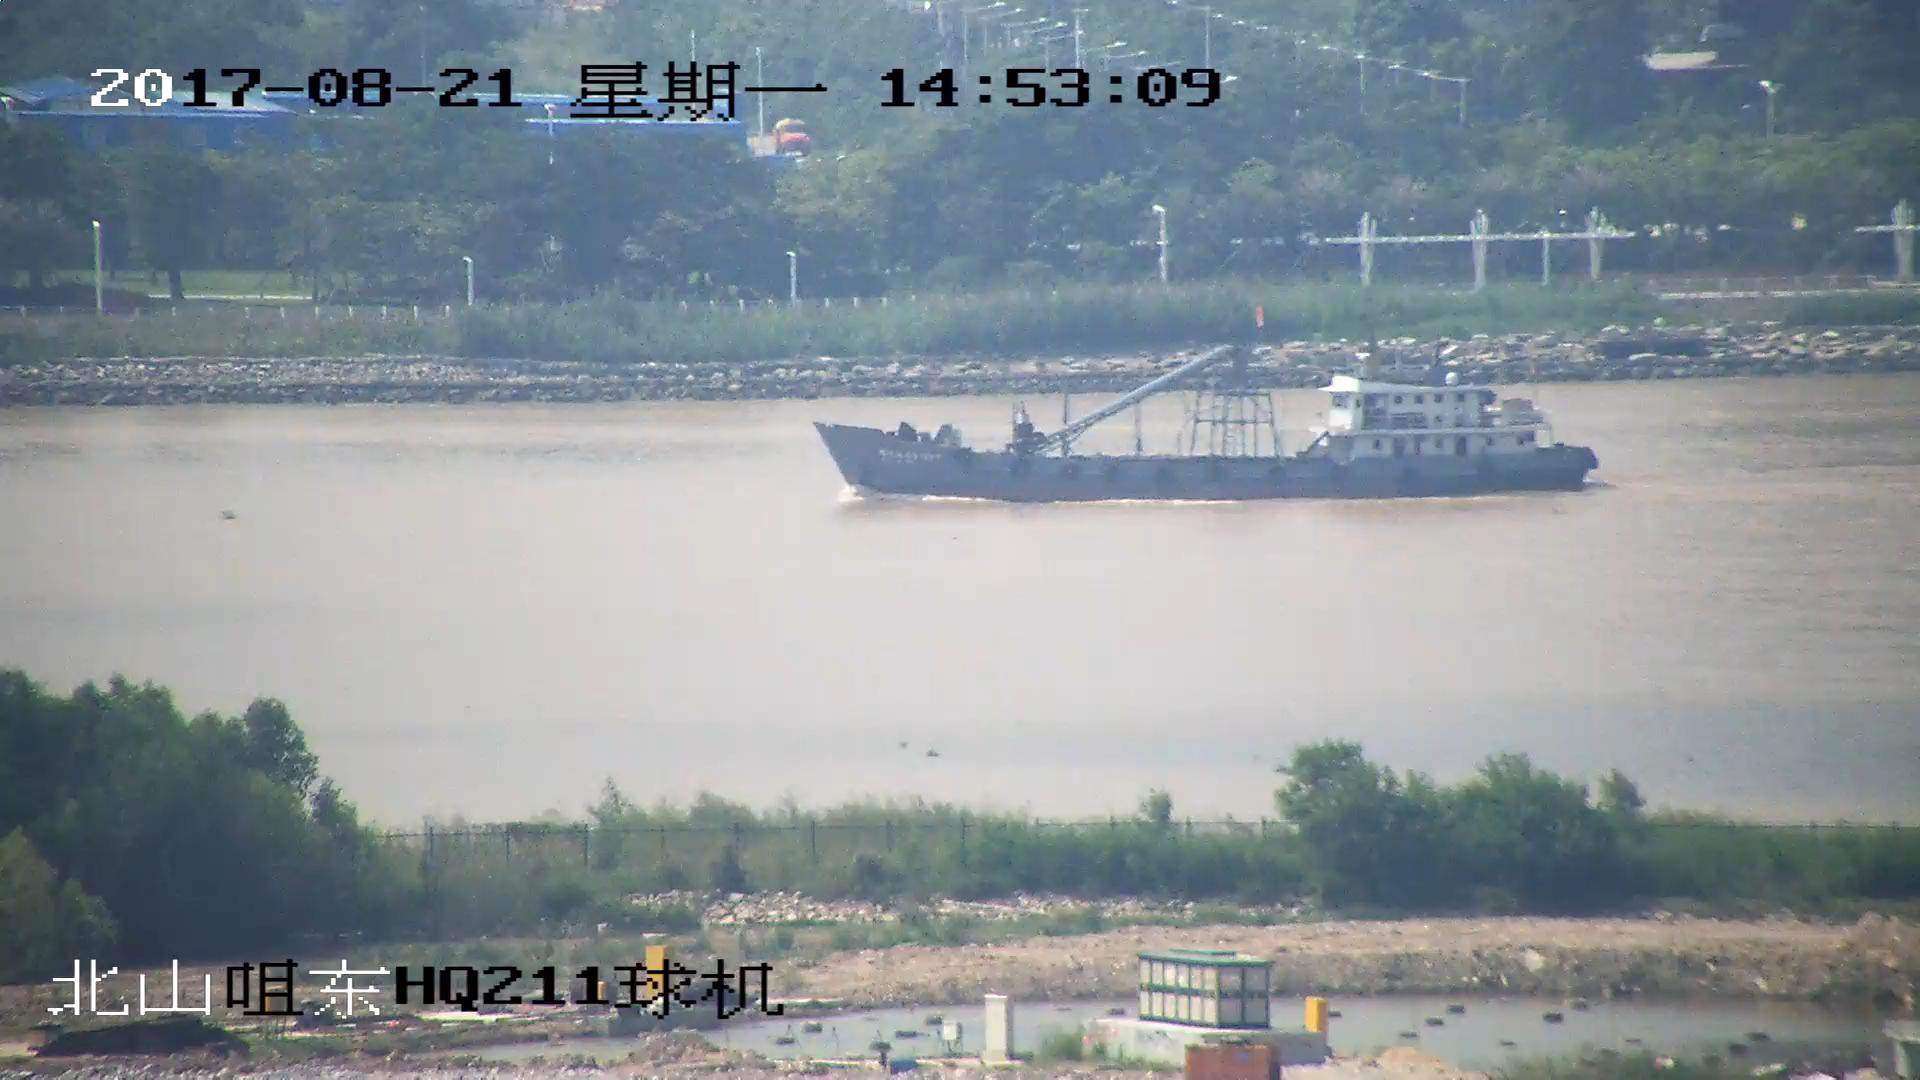fishing boat: (813, 303, 1592, 500)
